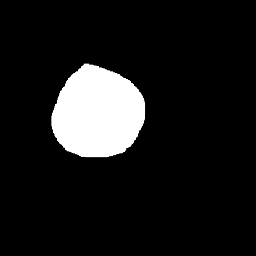mass: (52, 64, 145, 148)
